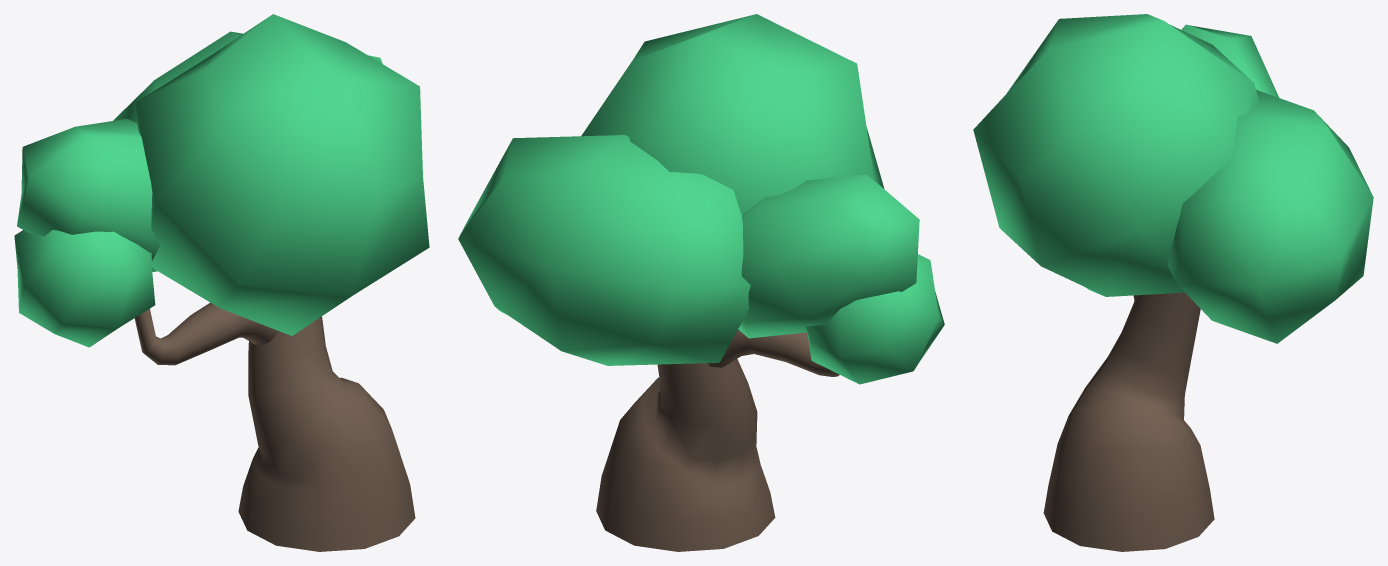
Rendered from TreeA.fbx.
The picture shows the model from 3 angles, left to right: view 1: azimuth 30°, elevation 25°; view 2: azimuth 150°, elevation 25°; view 3: azimuth 270°, elevation 25°; orthographic projection. The views are drawn at different scales.
Visible parts, largest first — view 1: TreeA; view 2: TreeA; view 3: TreeA.
Part boxes in pixels (bbox=[...]): TreeA: bbox=[14, 14, 429, 551]; TreeA: bbox=[458, 14, 944, 551]; TreeA: bbox=[973, 14, 1373, 551].
Bounding box in the file's own units: 205 × 230 × 175.
